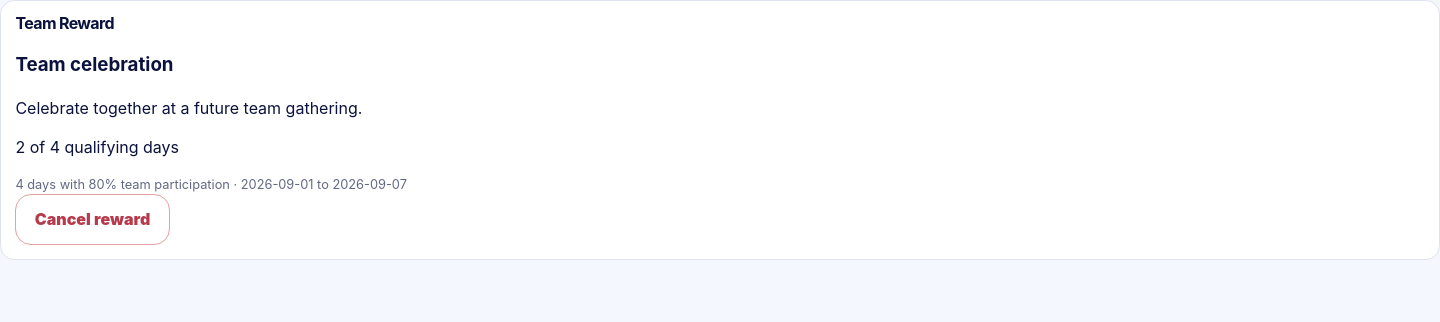
Scenario: team reward panel › shows aggregate progress and can cancel the active reward
The image size is (1440, 322).
Expected: the text "2 of 4 qualifying days" is shown, [15, 137, 179, 157]
Step 1. Click the button "Cancel reward" → (92, 219), box [15, 194, 170, 245]
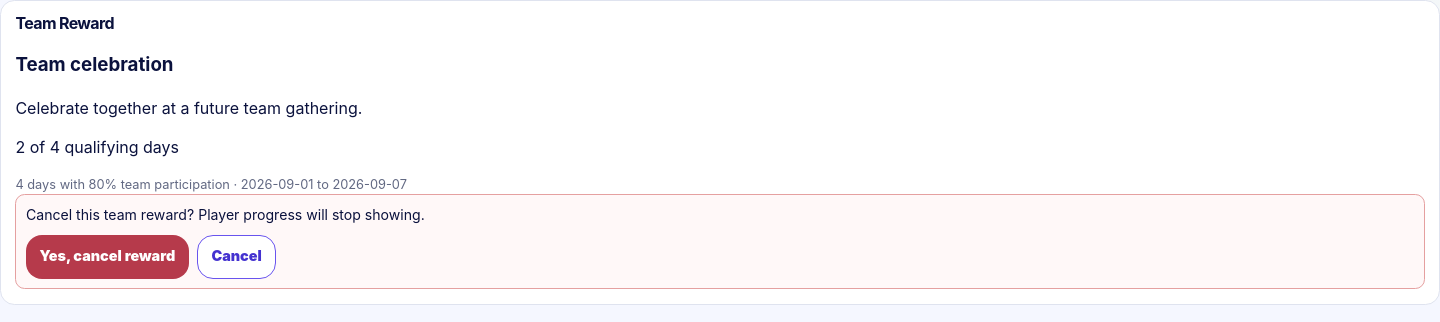
Step 2. Click the button "Yes, cancel reward" → (107, 257), box [26, 235, 189, 279]
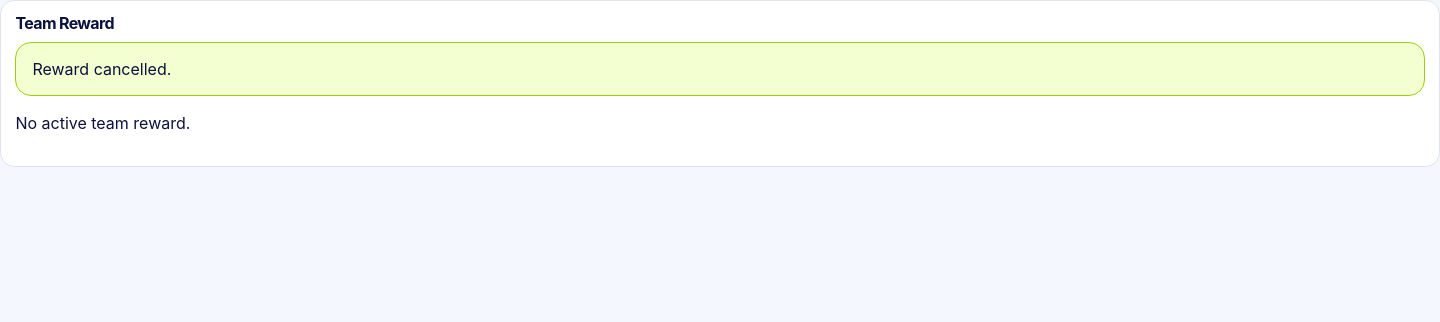
Expected: the text "Reward cancelled." is shown, [15, 42, 1425, 96]
